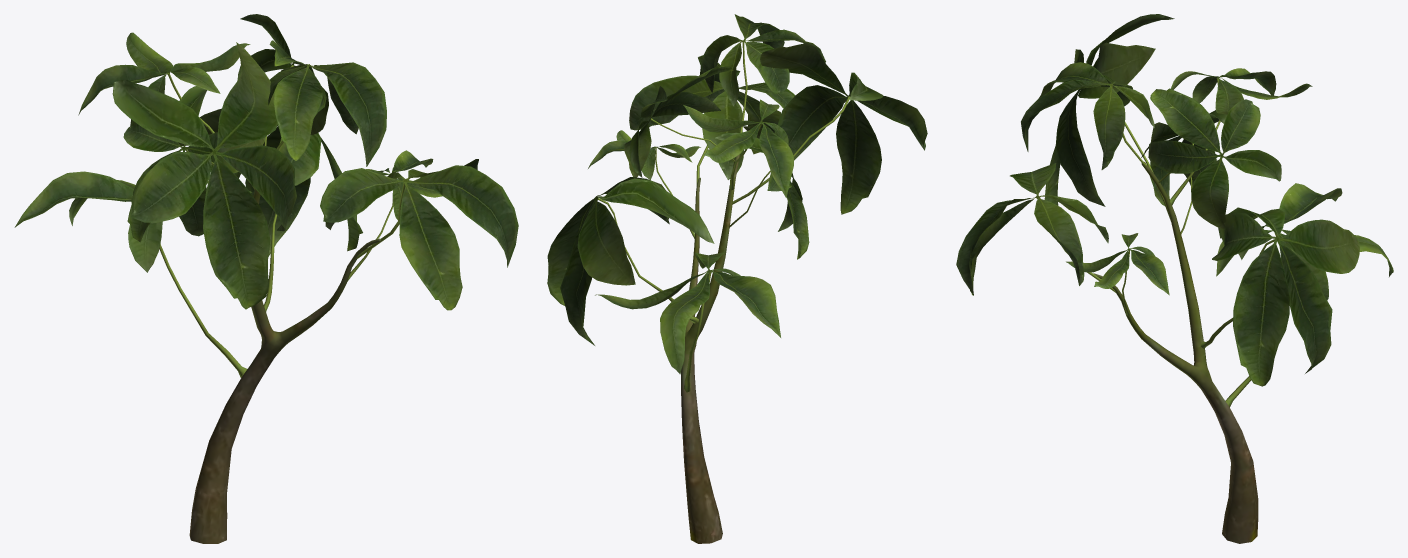
The model's file is pachira_aquatica_01.glb.
3 renders of one model, left to right at view 1: azimuth 30°, elevation 25°; view 2: azimuth 150°, elevation 25°; view 3: azimuth 270°, elevation 25°, orthographic. The views are drawn at different scales.
Visible parts, largest first — view 1: pachira_aquatica_01_leaves_b, pachira_aquatica_01_bark_b; view 2: pachira_aquatica_01_leaves_b, pachira_aquatica_01_bark_b; view 3: pachira_aquatica_01_leaves_b, pachira_aquatica_01_bark_b.
Part boxes in pixels (bbox=[...]): pachira_aquatica_01_leaves_b: bbox=[14, 14, 518, 377]; pachira_aquatica_01_bark_b: bbox=[189, 189, 380, 543]; pachira_aquatica_01_leaves_b: bbox=[547, 14, 927, 392]; pachira_aquatica_01_bark_b: bbox=[681, 154, 739, 543]; pachira_aquatica_01_leaves_b: bbox=[956, 14, 1393, 407]; pachira_aquatica_01_bark_b: bbox=[1093, 161, 1258, 543].
Bounding box in the file's own units: 0.5032 × 0.7351 × 0.6074.
2 materials, 2 textured.
